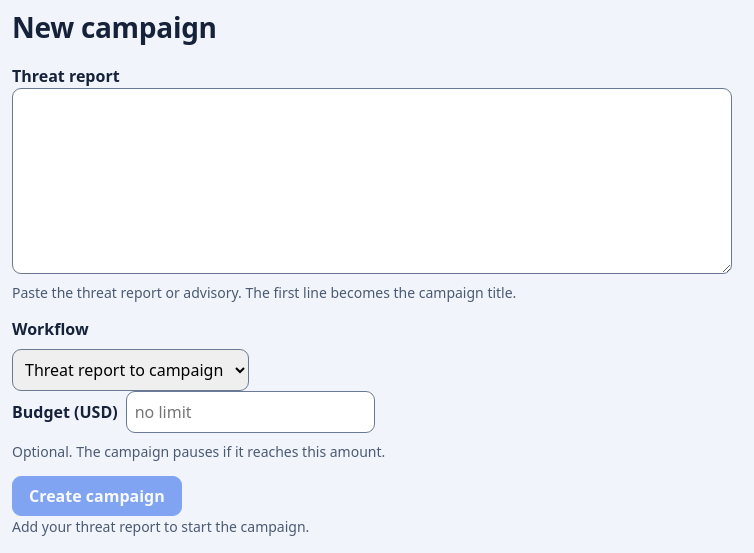
the create button says why it is disabled until a report is added
This screenshot has width=754, height=553.
Expected: the button "Create campaign" is disabled, [12,476,182,516]
Expected: the text "Add your threat report to start the campaign." is shown, [12,516,309,536]
In the text box labelled "Threat report": (372, 180) [12,88,732,274], type "Something happened"
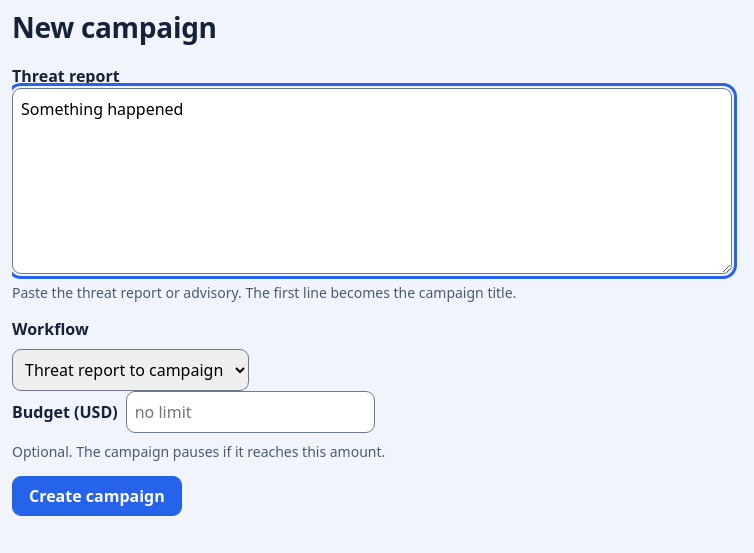
Now the button "Create campaign" is enabled, box [12,476,182,516]
Now the text "Add your threat report to start the campaign." is gone
